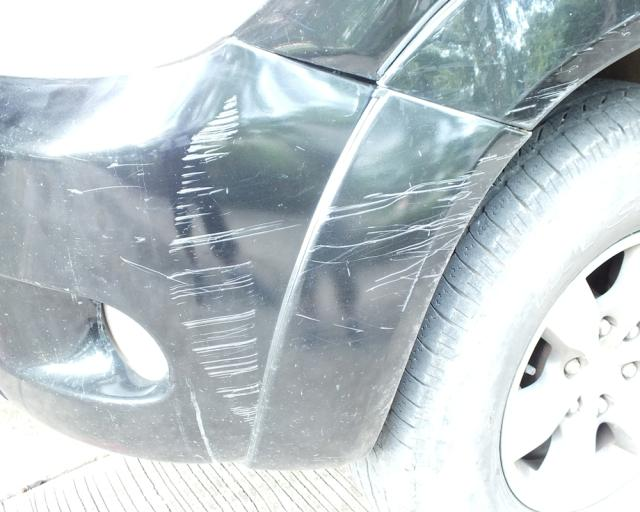scratch: (165, 89, 299, 434), (296, 150, 514, 339), (509, 11, 640, 125)
